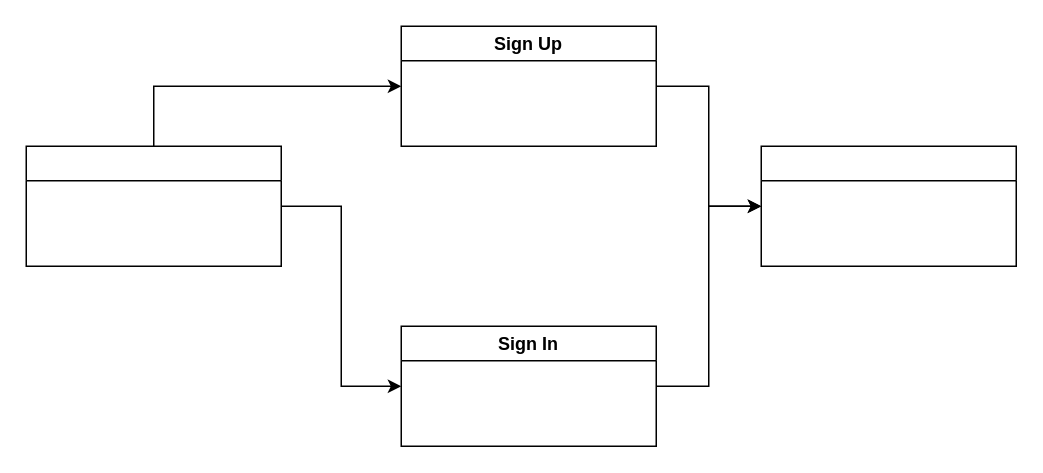
Image size: 1043x473. Some labels were removed from this diagram. The box of each missing label's shape, as (x1, y1, x2, y2) in pixels:
Home: (760, 145, 1016, 266)
Launch: (25, 145, 281, 266)
